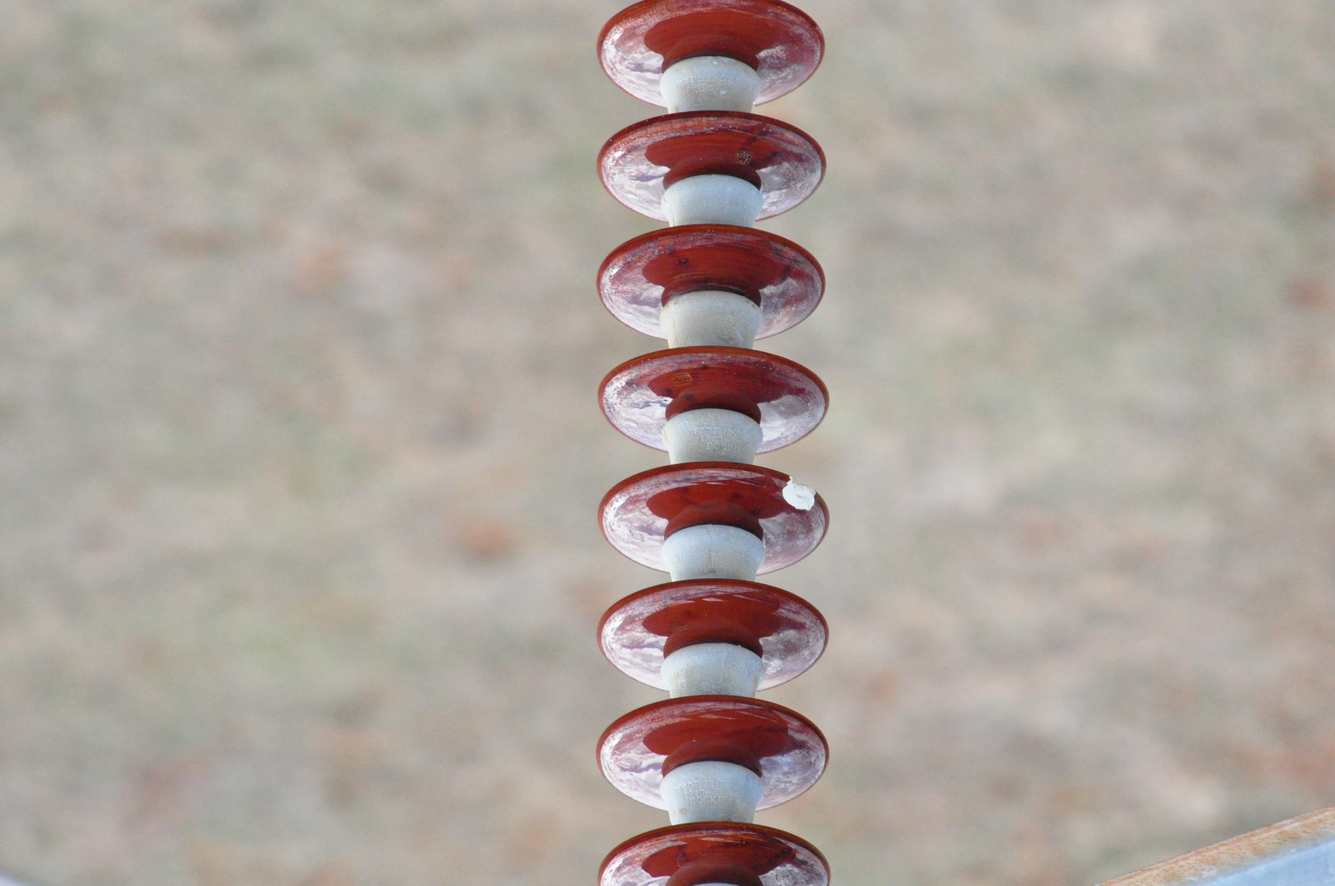damaged: (766, 465, 828, 521)
insulator: (593, 0, 829, 886)
